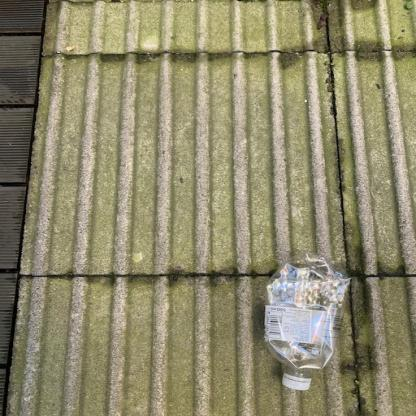trash: (262, 254, 354, 395)
